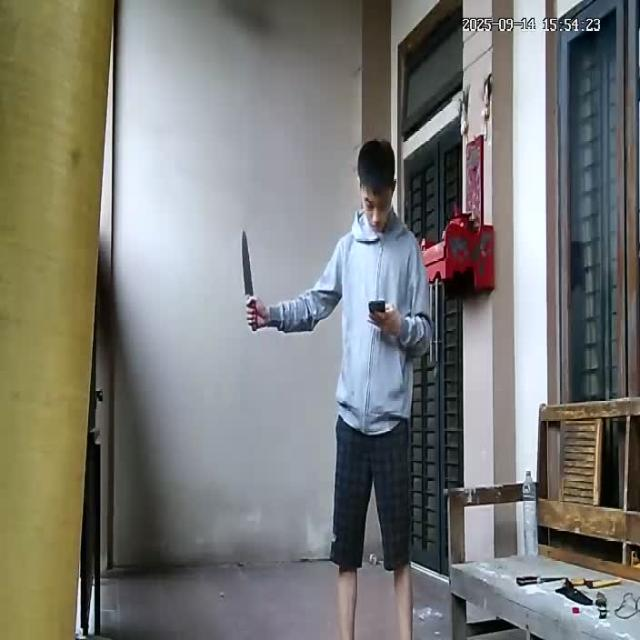senjata_tajam: (240, 226, 254, 298)
